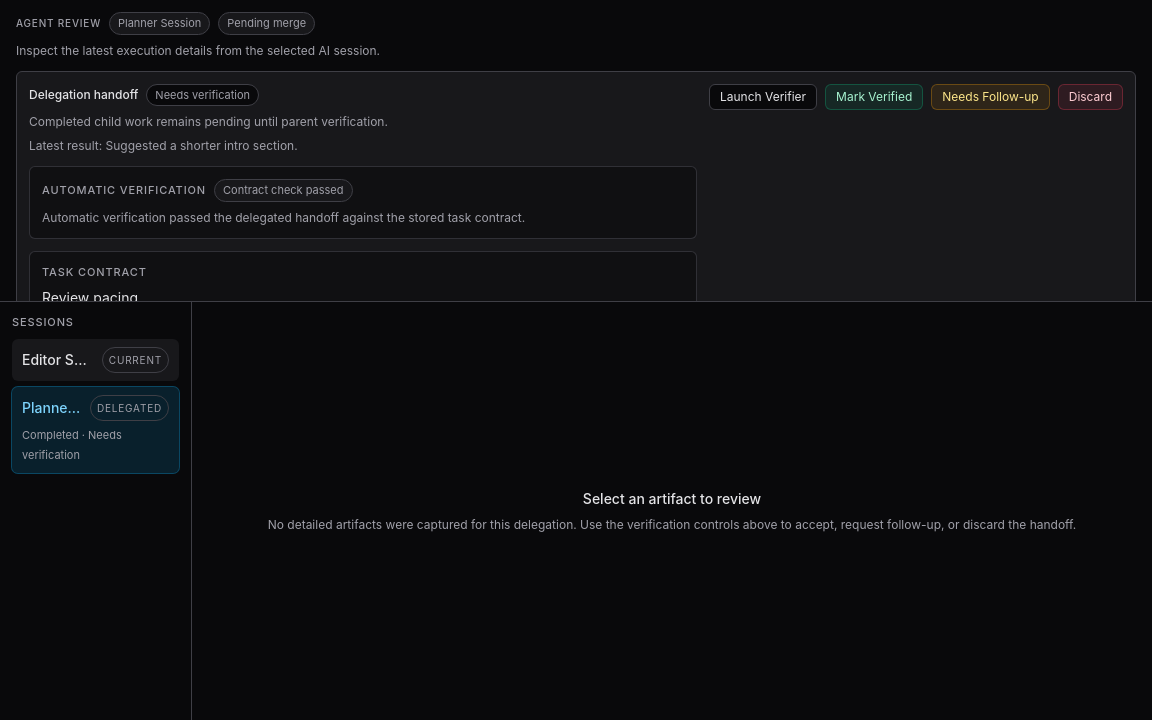
Test: AgentArtifactReviewPanel › does not inject verifier bootstrap messages if session switch does not land on the verifier child
Click the button with test id "delegation-review-launch-verifier-btn".
click(763, 96)  # box x1=709 y1=84 x2=817 y2=110
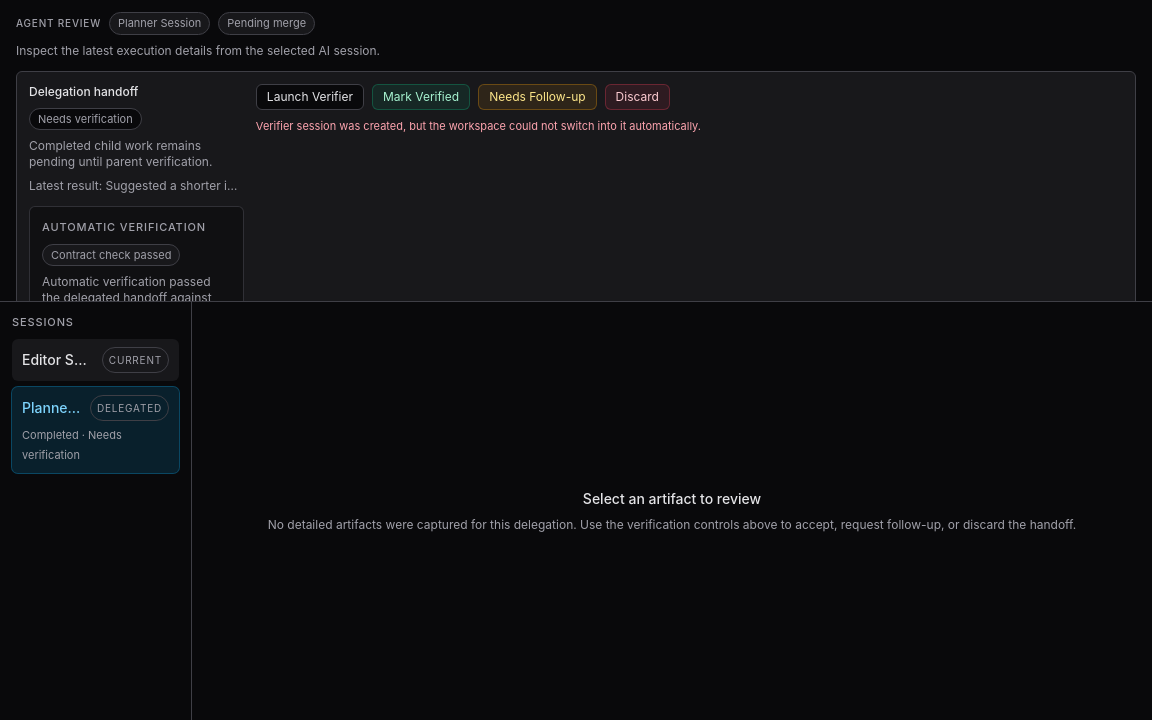
Expected: the text "Verifier session was created, but the workspace could not switch into it automatically." is shown, x1=256 y1=118 x2=701 y2=132
